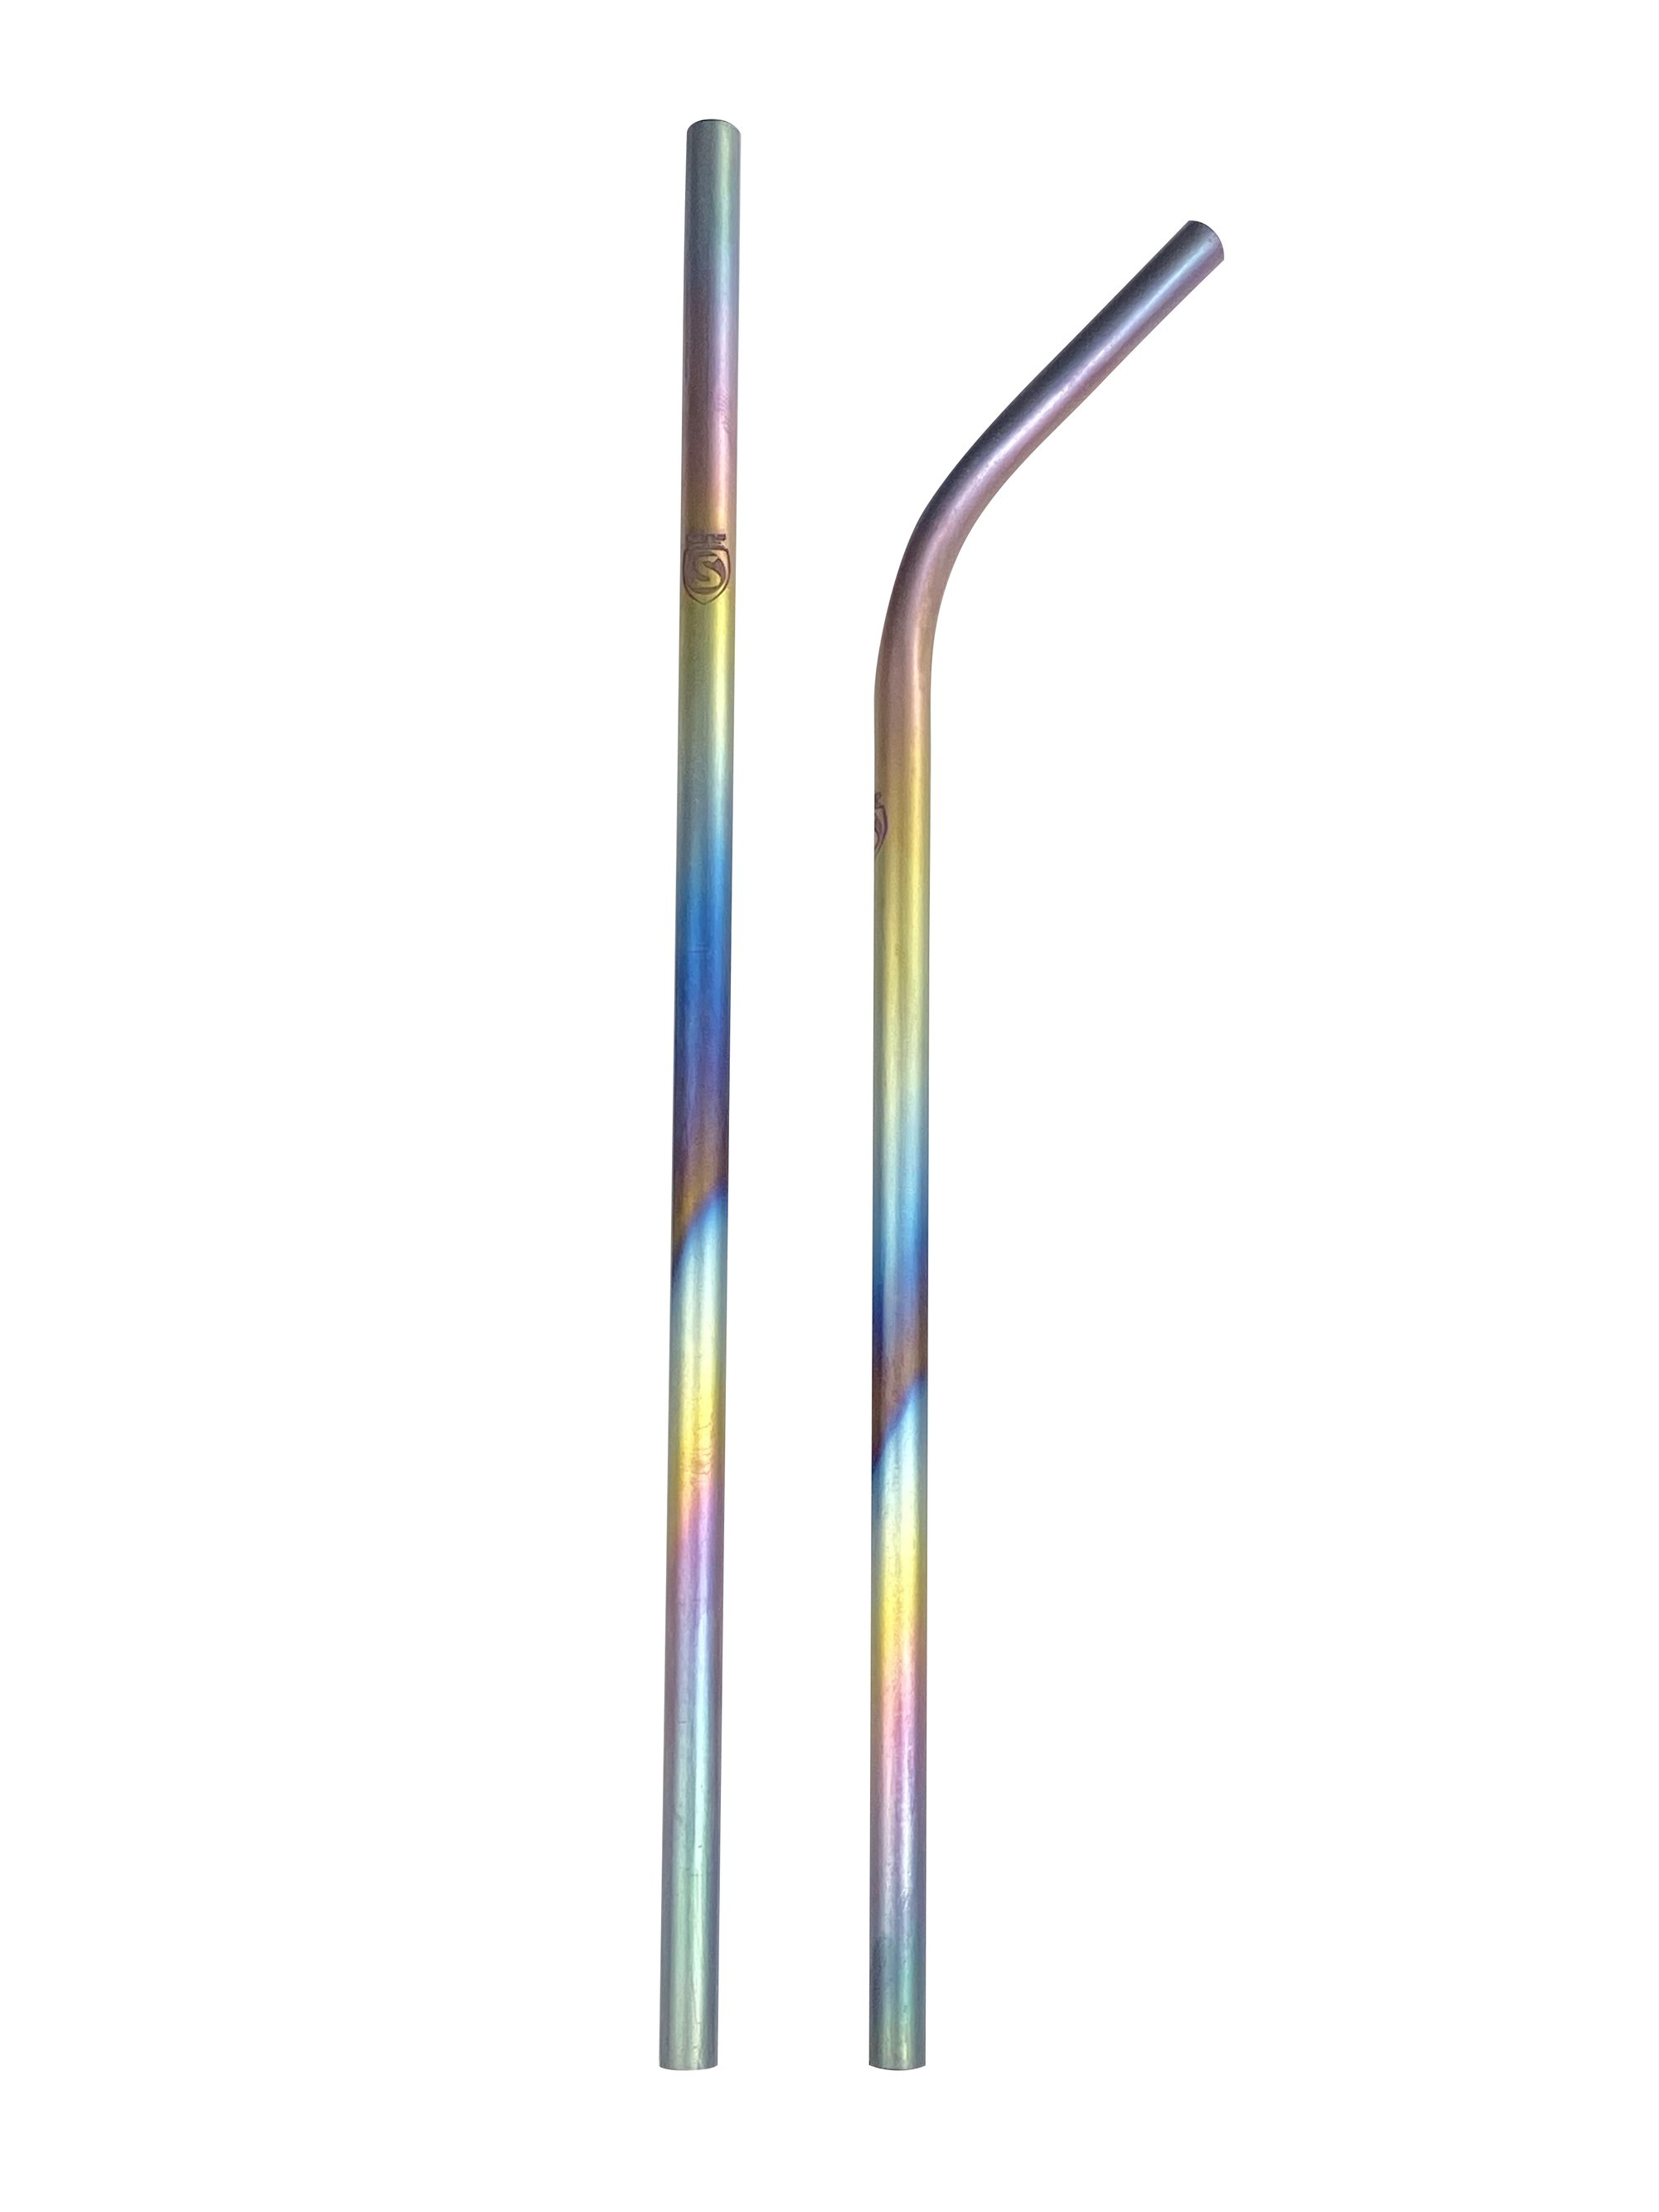Drinking Straw: (854, 204, 1246, 2080), (652, 105, 746, 2092)
